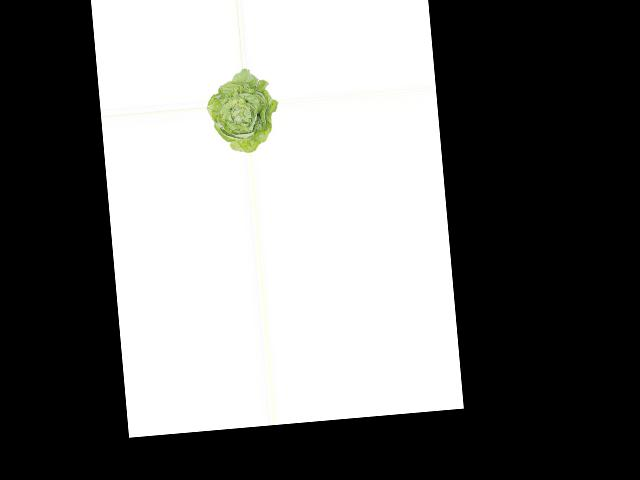lettuce: (204, 68, 282, 156)
